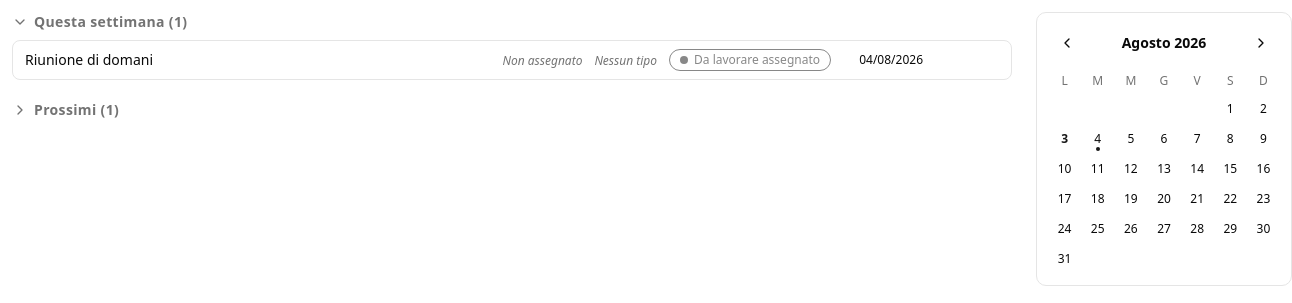
Test: gruppi dell'agenda › anche i gruppi di oggi si possono chiudere
Click the button "Questa settimana (1)" at (100, 22), box [12, 12, 187, 32]
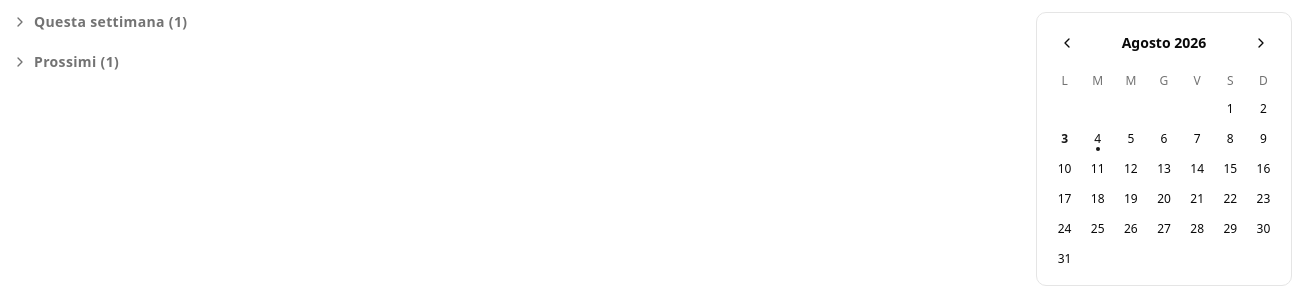
Result: the button "Riunione di domani" is gone
